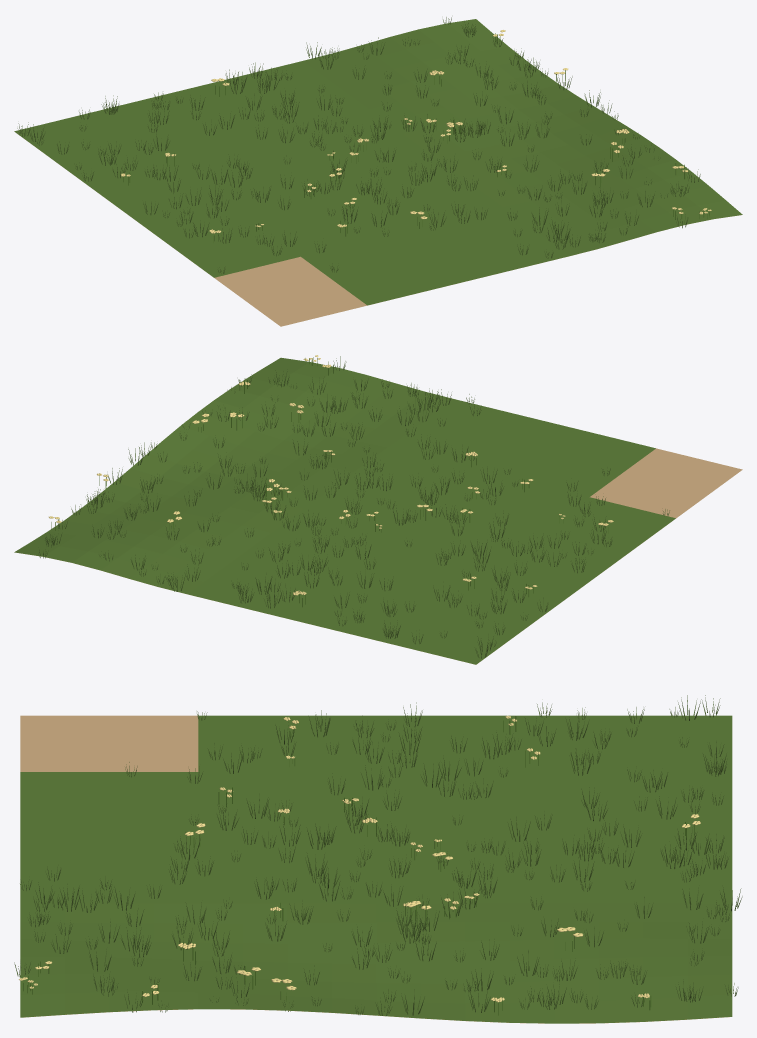
File: terrain-1-0.glb
3 renders of one model, top to bottom at view 1: azimuth 30°, elevation 25°; view 2: azimuth 150°, elevation 25°; view 3: azimuth 270°, elevation 25°, orthographic. The views are drawn at different scales.
Parts seen in each view (by area): view 1: terrain-1-0__grass, terrain-1-0__sand, terrain-1-0__petal, terrain-1-0__leaf; view 2: terrain-1-0__grass, terrain-1-0__sand, terrain-1-0__petal, terrain-1-0__leaf; view 3: terrain-1-0__grass, terrain-1-0__sand, terrain-1-0__petal, terrain-1-0__leaf.
Part boxes in pixels (x1,y1,x2,y2): terrain-1-0__grass: (14, 17, 742, 305); terrain-1-0__sand: (214, 215, 741, 326); terrain-1-0__petal: (121, 30, 711, 233); terrain-1-0__leaf: (123, 33, 709, 242); terrain-1-0__grass: (14, 356, 675, 664); terrain-1-0__sand: (16, 448, 742, 661); terrain-1-0__petal: (49, 355, 613, 595); terrain-1-0__leaf: (51, 357, 608, 607); terrain-1-0__grass: (14, 695, 742, 1023); terrain-1-0__sand: (20, 715, 729, 1023); terrain-1-0__petal: (19, 715, 700, 1002); terrain-1-0__leaf: (23, 715, 694, 1015).
Size of the model in its own units: 16.32 by 0.7536 by 16.38.
